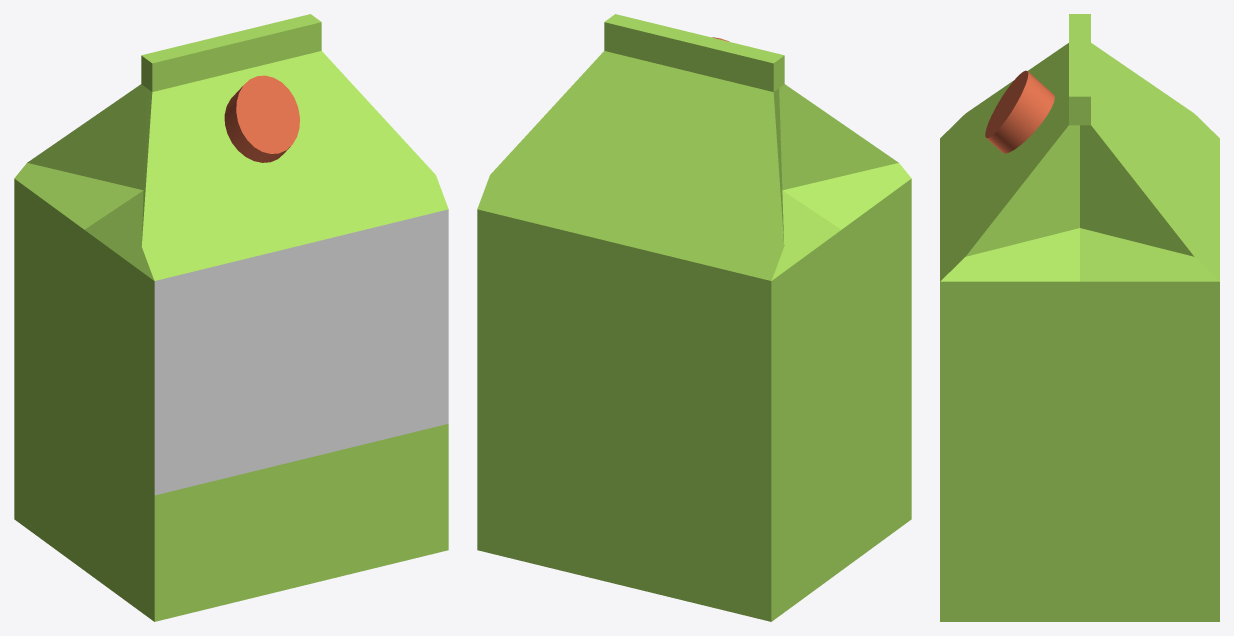
Rendered from 4 juice.fbx.
The picture shows the model from 3 angles, left to right: view 1: azimuth 30°, elevation 25°; view 2: azimuth 150°, elevation 25°; view 3: azimuth 270°, elevation 25°; orthographic projection.
Parts seen in each view (by area): view 1: 4 juice; view 2: 4 juice; view 3: 4 juice.
Boxes of the visible parts, box(x1,y1,x2,y2) form: 4 juice: box(14, 14, 448, 621); 4 juice: box(477, 14, 911, 621); 4 juice: box(940, 14, 1219, 621).
Bounding box in the file's own units: 6.1 × 9.83 × 5.04.
